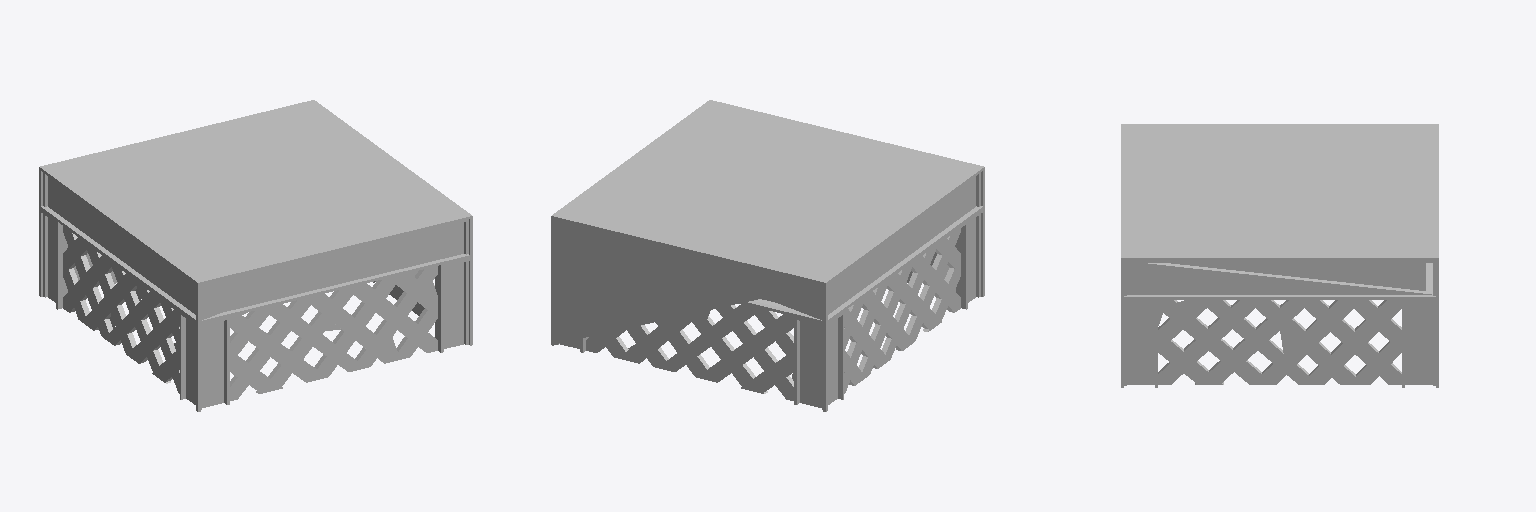
The model's file is Half_Crate__188644_.obj.
The picture shows the model from 3 angles: view 1: azimuth 30°, elevation 25°; view 2: azimuth 150°, elevation 25°; view 3: azimuth 270°, elevation 25°; orthographic projection.
Parts seen in each view (by area): view 1: Half_Crate__188644__temp_Half_Crate__188644_.002; view 2: Half_Crate__188644__temp_Half_Crate__188644_.002; view 3: Half_Crate__188644__temp_Half_Crate__188644_.002.
Part boxes in pixels (left/top/right/bottom): Half_Crate__188644__temp_Half_Crate__188644_.002: left=39, top=100, right=472, bottom=411; Half_Crate__188644__temp_Half_Crate__188644_.002: left=551, top=100, right=984, bottom=411; Half_Crate__188644__temp_Half_Crate__188644_.002: left=1121, top=124, right=1438, bottom=387.
Size of the model in its own units: 0.3334 by 0.15 by 0.3334.